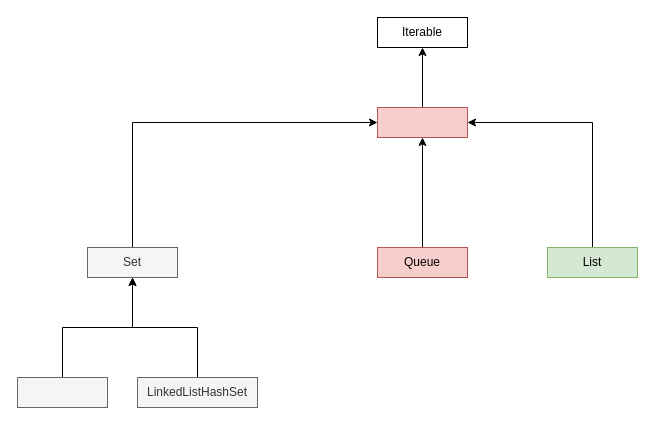
This 655x425 diagram has some shape labels left out. Here are the shapes that lost their labels. From the top down, the box of each, then its label:
(376, 106, 468, 138): Collection
(16, 376, 108, 408): HashSet
